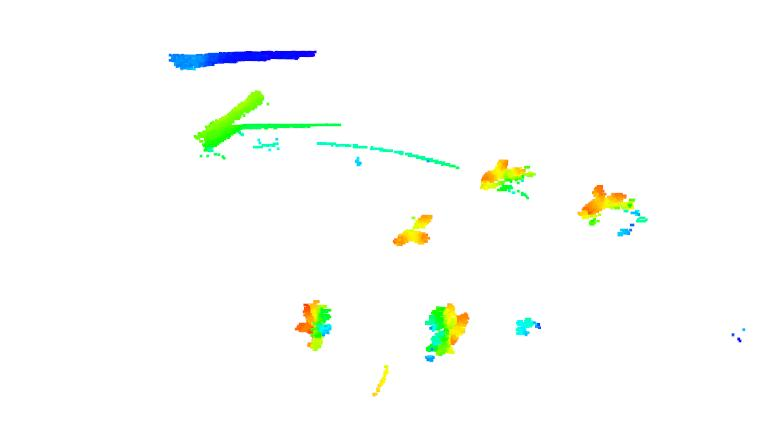chickpea: (420, 301, 476, 362), (574, 183, 642, 229), (478, 152, 534, 196), (294, 297, 338, 349), (390, 211, 438, 248)
